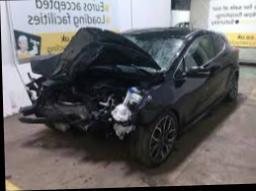Bonnet: (30, 26, 163, 108)
Bumper: (22, 101, 134, 137)
Light: (24, 70, 46, 101)
